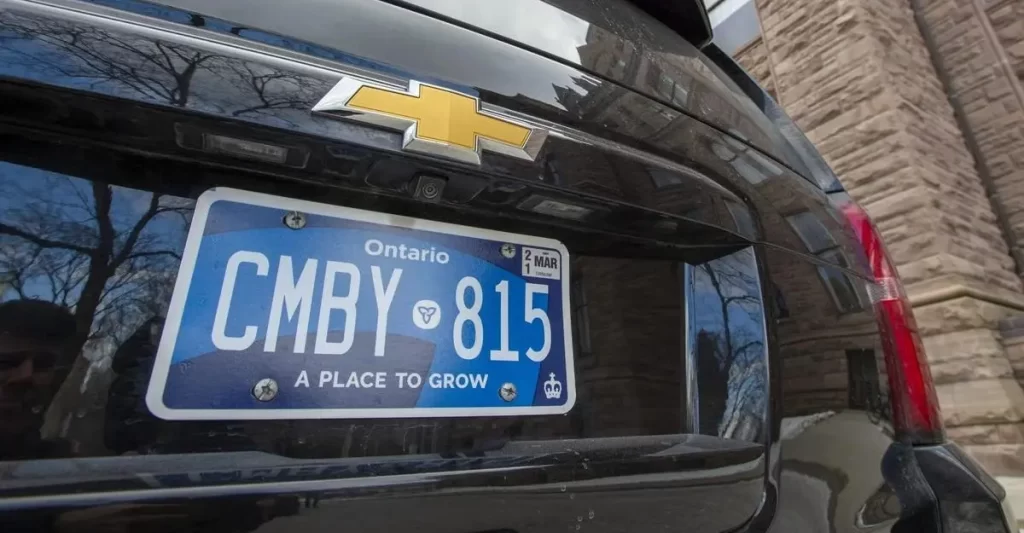licence: (161, 181, 579, 428)
